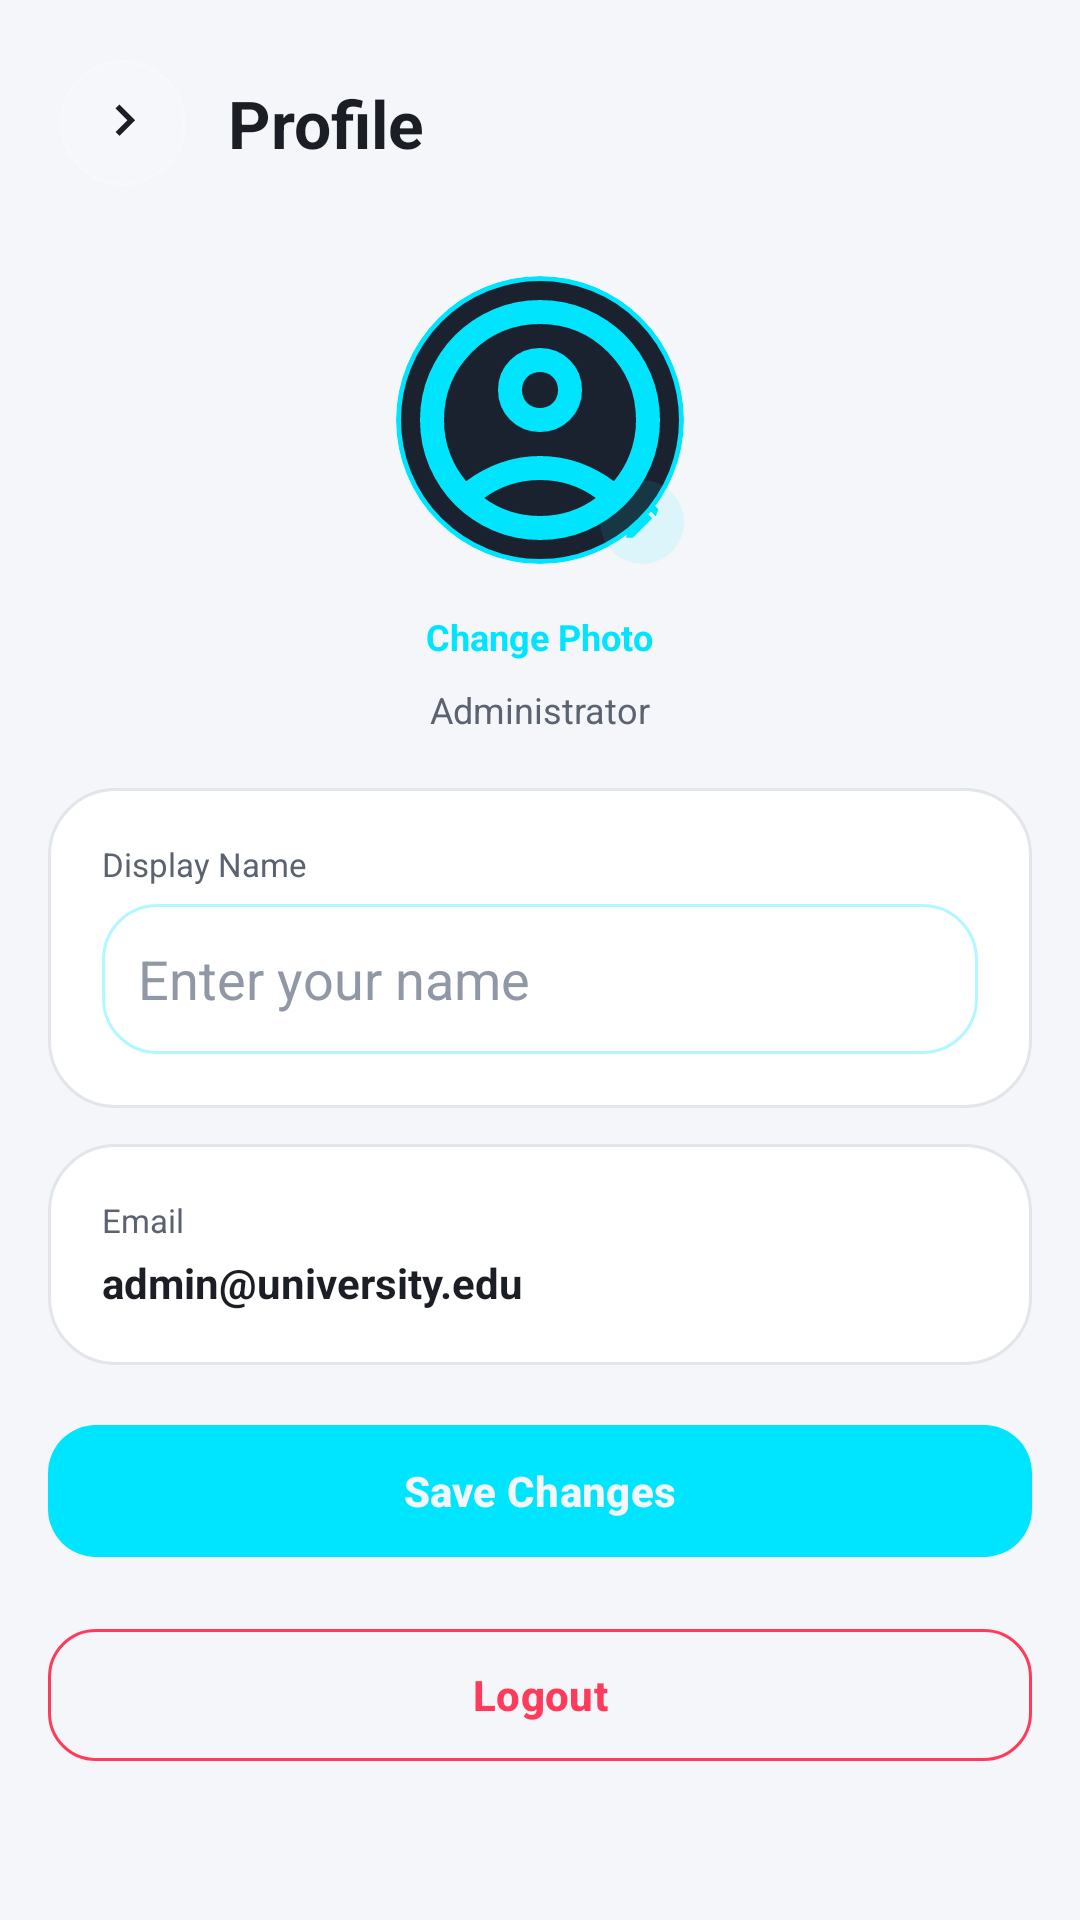

Where to tap for icons on this 1080px x 1920px app screen, as point (x, y):
arrow: point (125, 120)
